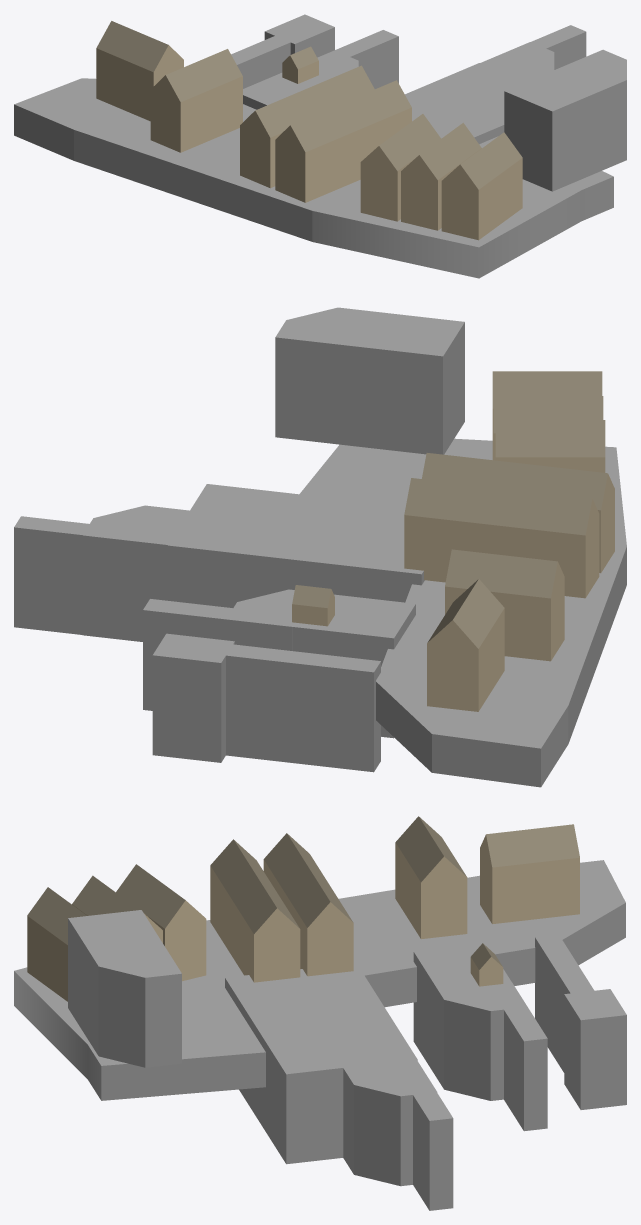
Rendered from mdl_dock02.fbx.
The picture shows the model from 3 angles, top to bottom: view 1: azimuth 30°, elevation 25°; view 2: azimuth 150°, elevation 25°; view 3: azimuth 270°, elevation 25°; orthographic projection. The views are drawn at different scales.
Parts seen in each view (by area): view 1: dock3; view 2: dock3; view 3: dock3.
Part boxes in pixels (x1,y1,x2,y2): dock3: (14, 14, 626, 278); dock3: (14, 307, 626, 787); dock3: (14, 816, 626, 1210).
Bounding box in the file's own units: 1763 × 564 × 1685.
